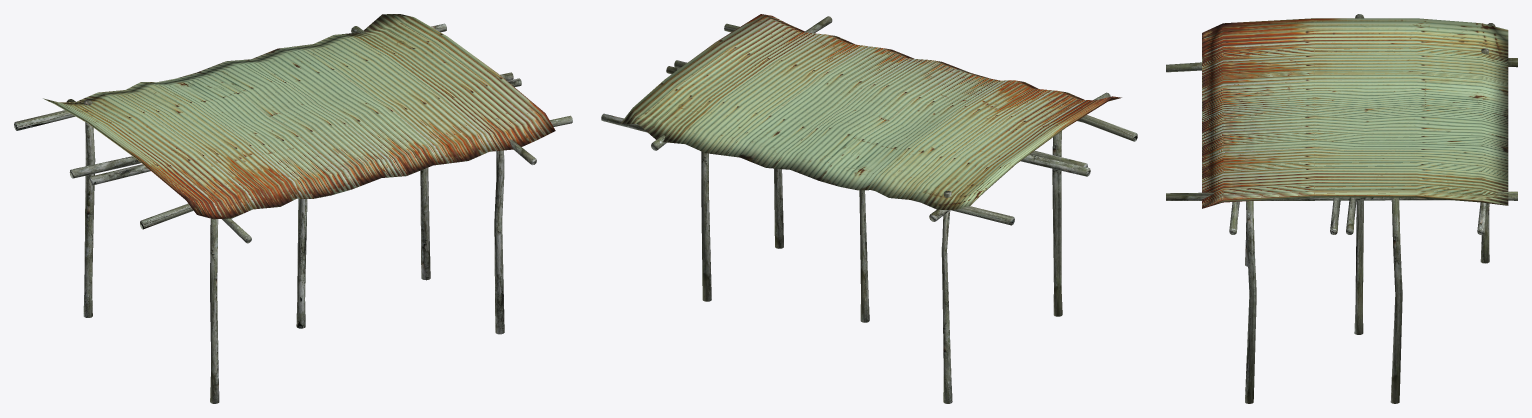
The model's file is shanty9.fbx.
3 renders of one model, left to right at view 1: azimuth 30°, elevation 25°; view 2: azimuth 150°, elevation 25°; view 3: azimuth 270°, elevation 25°, orthographic. The views are drawn at different scales.
Parts seen in each view (by area): view 1: U3DMesh; view 2: U3DMesh; view 3: U3DMesh.
Part boxes in pixels (x1,y1,x2,y2): U3DMesh: [14, 14, 572, 403]; U3DMesh: [601, 14, 1137, 403]; U3DMesh: [1166, 14, 1517, 403].
Size of the model in its own units: 179 by 90.14 by 127.
